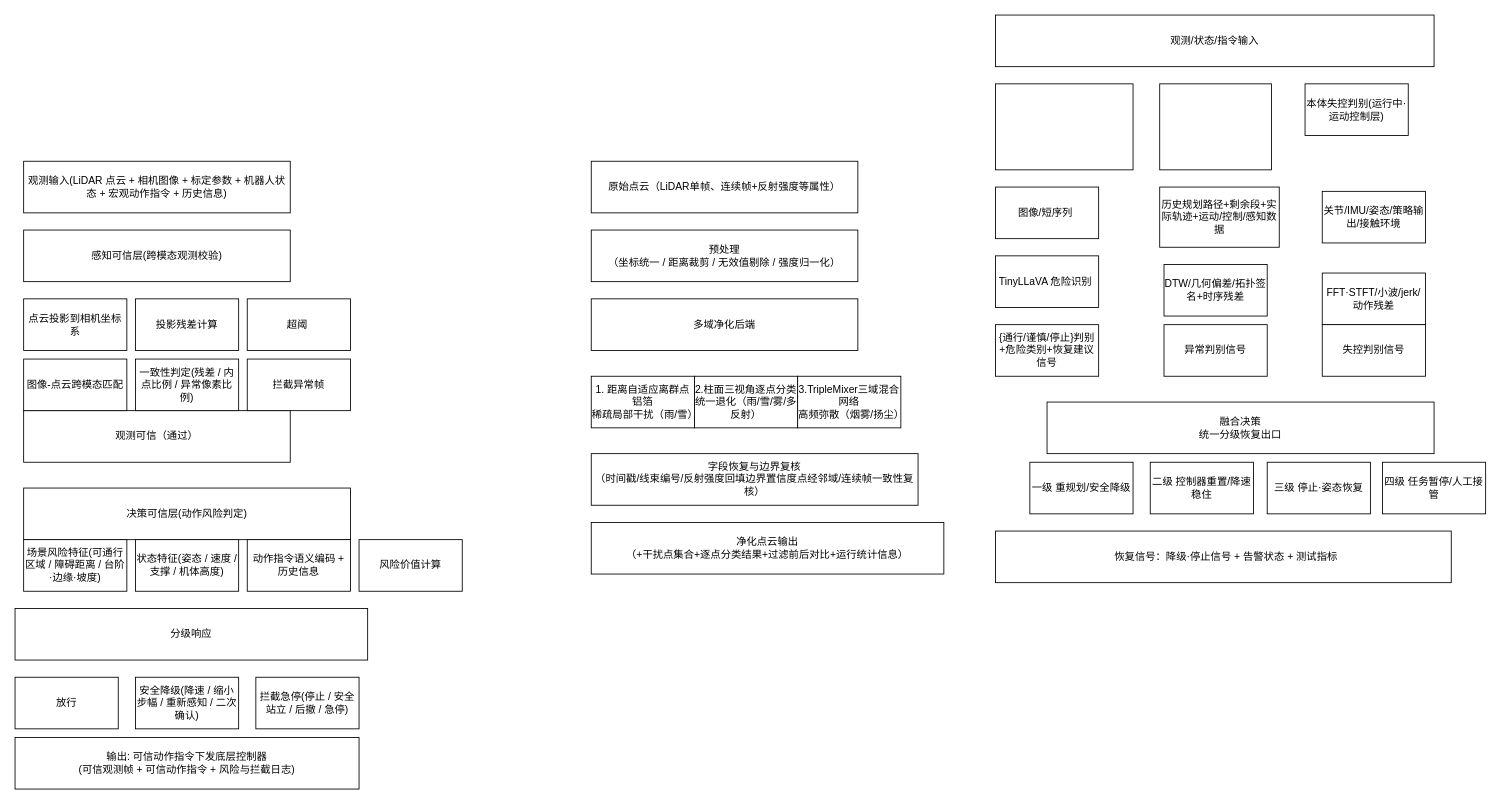
The diagram is 1501 pixels wide and 804 high, and some of its shapes have lost their labels. Each missing label, with the centre of its shape:
"视觉前置审查 (VLM,行动前)" goes at (1064,126).
"轨迹一致性判别 (D*,运行中·导航规划层)" goes at (1215,126).
